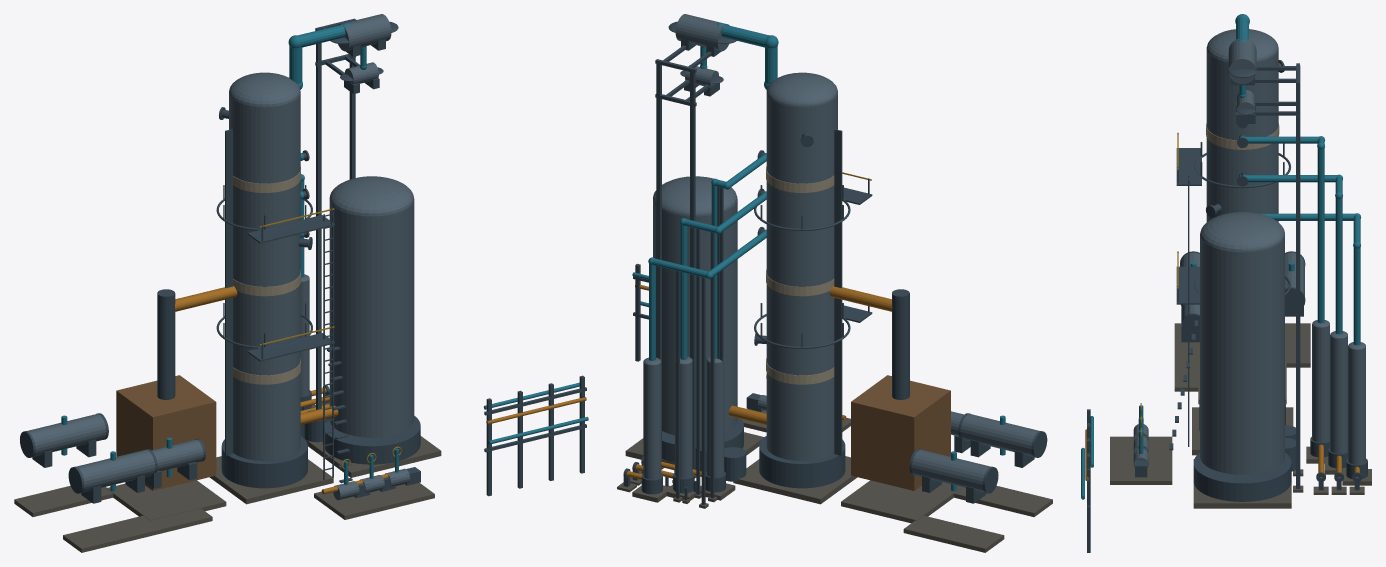
The model's file is tower.obj.
The picture shows the model from 3 angles, left to right: view 1: azimuth 30°, elevation 25°; view 2: azimuth 150°, elevation 25°; view 3: azimuth 270°, elevation 25°; orthographic projection.
Parts seen in each view (by area): view 1: Tower_Atmospheric_Shell, Tower_Vacuum_Shell, Heater, Foundation_Heater, Tower_Vacuum_Skirt, Tower_Atmospheric_Skirt, Ladder, PumpSkid_Base, Tower_Vacuum_Dome, Heater_Chimney, Condenser_Frame_0, Exchanger_1_Shell (+18 smaller); view 2: Tower_Atmospheric_ShellHalf, Heater, Tower_Vacuum_ShellHalf, Foundation_Heater, Ladder, Tower_Atmospheric_Skirt, Stripper_Diesel_Shell, Condenser_Frame_0, Heater_Chimney, Exchanger_2_Base, Exchanger_1_Shell, Exchanger_2_Shell (+29 smaller); view 3: Tower_Vacuum_Shell, Tower_Vacuum_ShellHalf, Tower_Atmospheric_Shell, Tower_Atmospheric_ShellHalf, Tower_Vacuum_Skirt, PumpSkid_Base, Stripper_Naphtha_Shell, Stripper_Kerosene_Shell, Stripper_Diesel_Shell, Condenser_Frame_1, Tower_Vacuum_Dome, Pipe_Side_Naphtha_Seg2 (+20 smaller).
Boxes of the visible parts, <box> form: Tower_Atmospheric_Shell: <box>234,91,300,460</box>; Tower_Vacuum_Shell: <box>335,198,414,437</box>; Heater: <box>116,375,216,490</box>; Foundation_Heater: <box>106,480,226,520</box>; Tower_Vacuum_Skirt: <box>323,416,420,464</box>; Tower_Atmospheric_Skirt: <box>221,436,307,488</box>; Ladder: <box>225,129,232,455</box>; PumpSkid_Base: <box>314,483,434,519</box>; Tower_Vacuum_Dome: <box>330,177,413,216</box>; Heater_Chimney: <box>157,289,175,399</box>; Condenser_Frame_0: <box>316,43,321,409</box>; Exchanger_1_Shell: <box>76,449,155,492</box>; Tower_Atmospheric_ShellHalf: <box>766,94,833,460</box>; Heater: <box>851,375,950,490</box>; Tower_Vacuum_ShellHalf: <box>653,200,731,437</box>; Foundation_Heater: <box>841,480,960,523</box>; Ladder: <box>834,129,842,455</box>; Tower_Atmospheric_Skirt: <box>759,436,845,488</box>; Stripper_Diesel_Shell: <box>643,362,661,479</box>; Condenser_Frame_0: <box>690,70,695,469</box>; Heater_Chimney: <box>892,289,909,399</box>; Exchanger_2_Base: <box>903,515,1004,552</box>; Exchanger_1_Shell: <box>960,414,1039,456</box>; Exchanger_2_Shell: <box>911,449,990,492</box>; Tower_Vacuum_Shell: <box>1200,232,1242,474</box>; Tower_Vacuum_ShellHalf: <box>1242,236,1284,474</box>; Tower_Atmospheric_Shell: <box>1206,49,1242,221</box>; Tower_Atmospheric_ShellHalf: <box>1242,49,1278,222</box>; Tower_Vacuum_Skirt: <box>1193,452,1291,501</box>; PumpSkid_Base: <box>1110,436,1172,484</box>; Stripper_Naphtha_Shell: <box>1312,324,1329,442</box>; Stripper_Kerosene_Shell: <box>1330,335,1347,453</box>; Stripper_Diesel_Shell: <box>1348,346,1365,464</box>; Condenser_Frame_1: <box>1296,82,1300,488</box>; Tower_Vacuum_Dome: <box>1200,212,1284,252</box>; Pipe_Side_Naphtha_Seg2: <box>1317,148,1324,323</box>.
Size of what is drawn, in the model's own units: 32.8 by 29.3 by 17.77.
